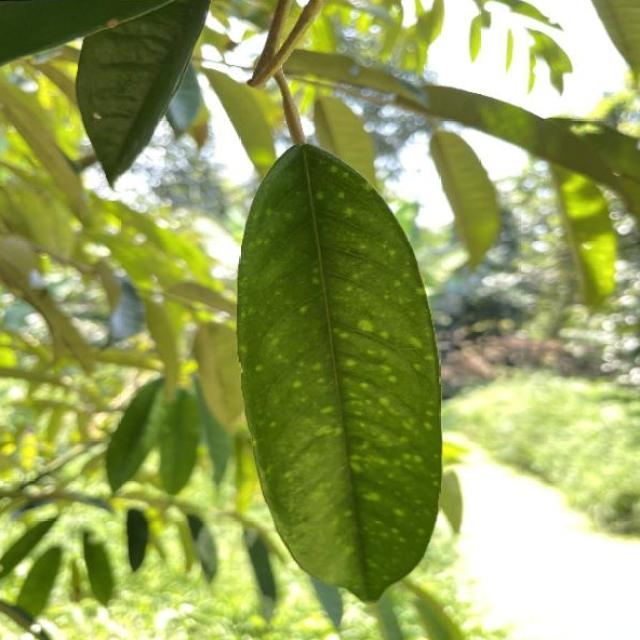Leaf Spot: (231, 138, 458, 616)
